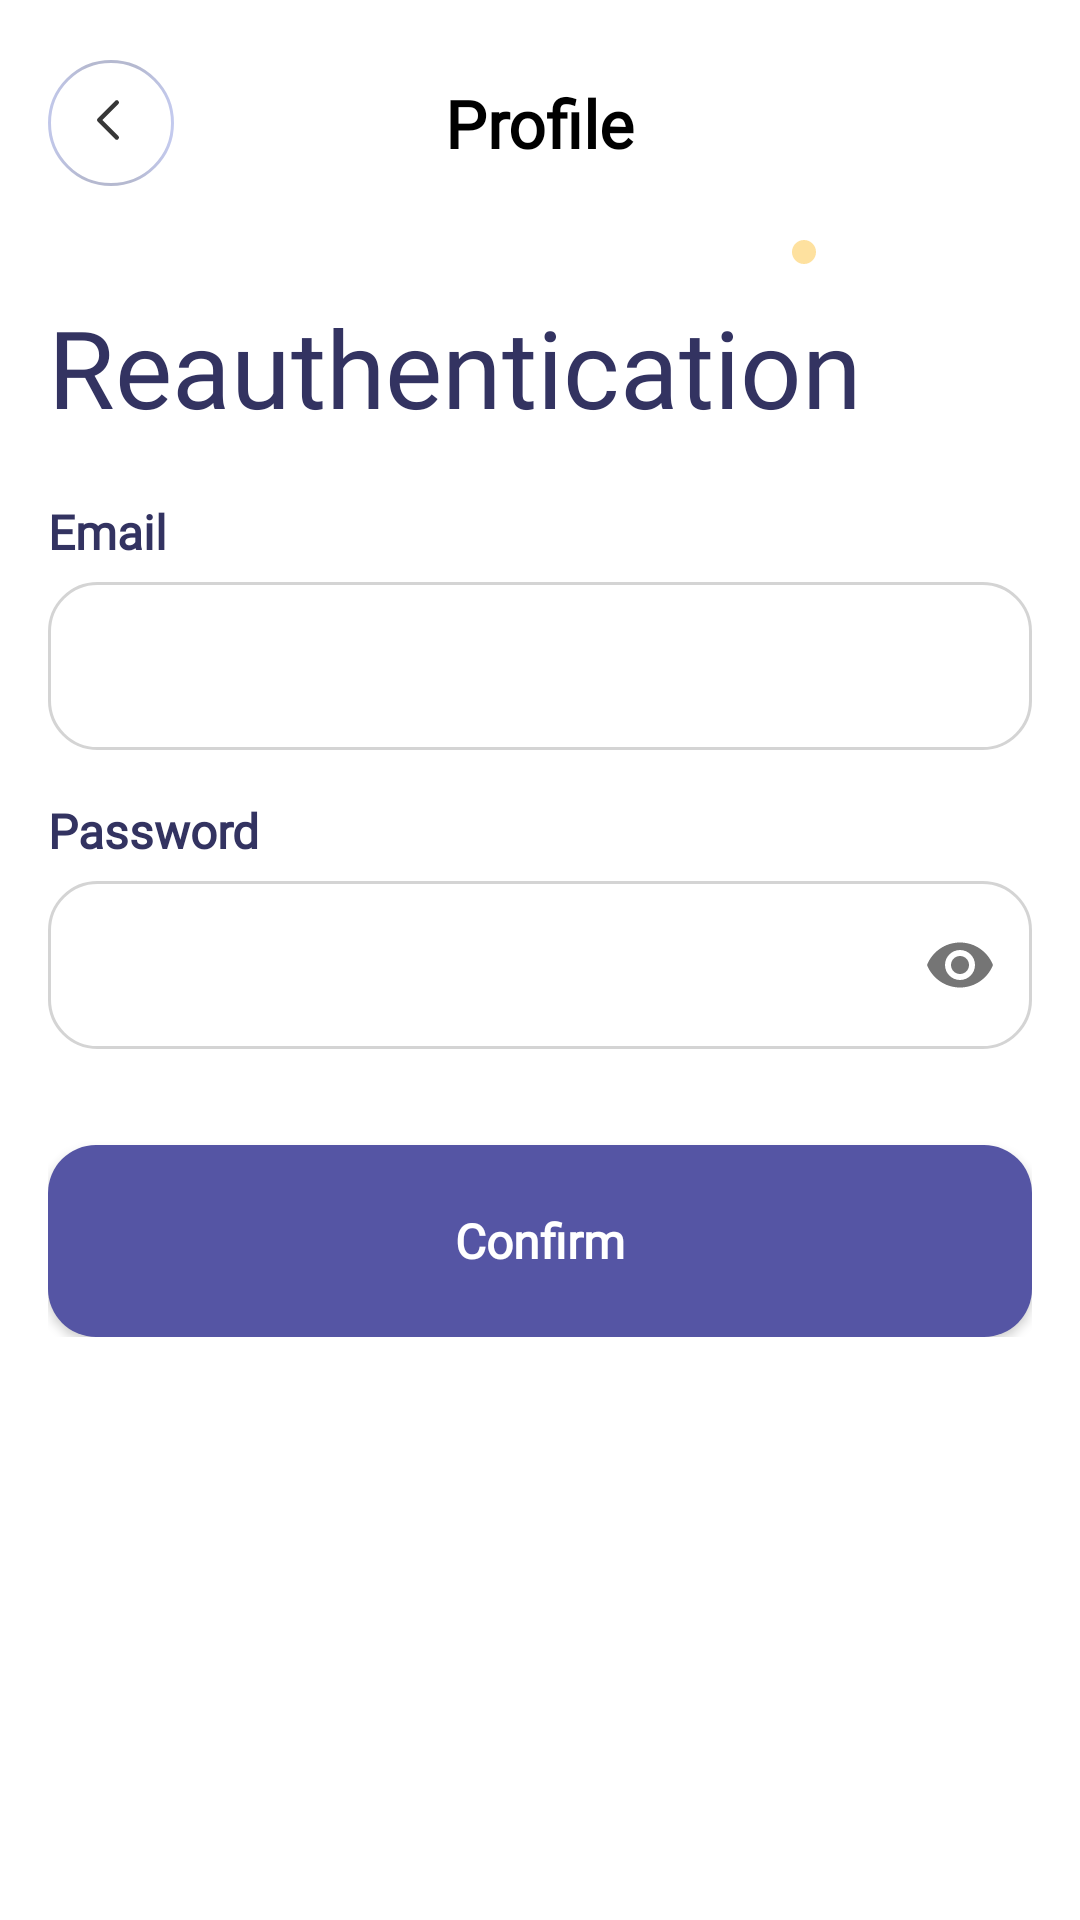

Icons on this 1080w x 1920h Android screen, each with the point to tap as (x,y):
get back: (111,123)
